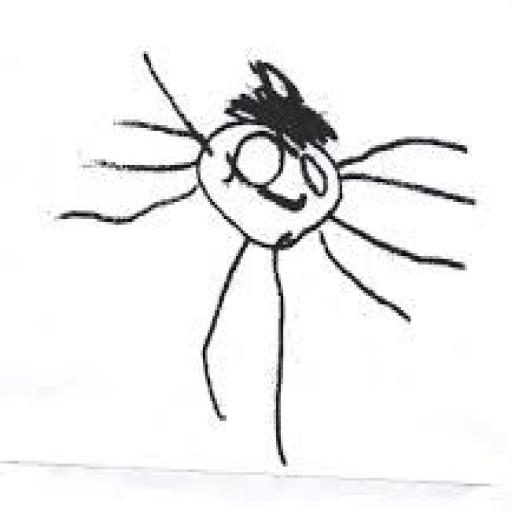person: (56, 37, 484, 484)
